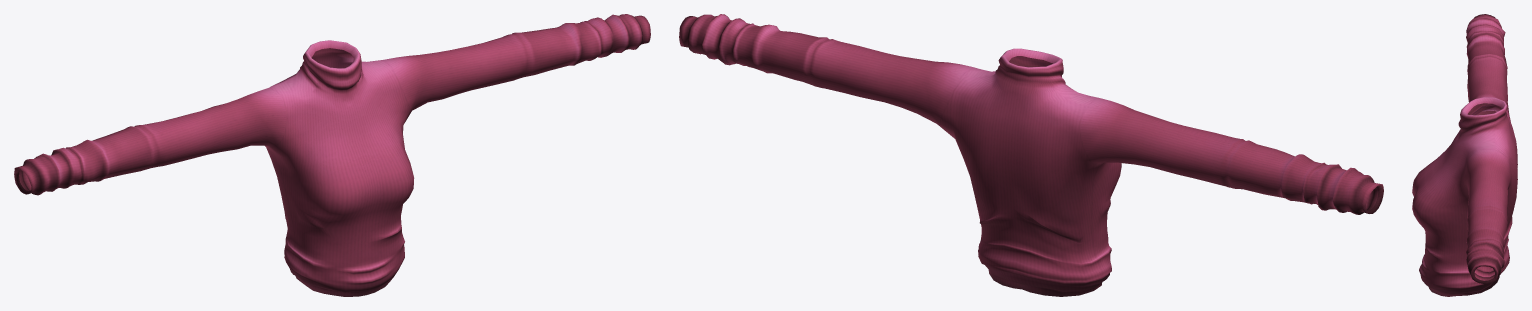
File: Sweater.dae
The picture shows the model from 3 angles, left to right: view 1: azimuth 30°, elevation 25°; view 2: azimuth 150°, elevation 25°; view 3: azimuth 270°, elevation 25°; orthographic projection. The views are drawn at different scales.
Visible parts, largest first — view 1: prim0; view 2: prim0; view 3: prim0.
Boxes of the visible parts, x1=… form: prim0: x1=14, y1=14, x2=650, y2=296; prim0: x1=679, y1=14, x2=1383, y2=296; prim0: x1=1412, y1=14, x2=1517, y2=296.
Bounding box in the file's own units: 1.31 × 0.2332 × 0.4391.
Materials: 1 (1 with a texture image).
